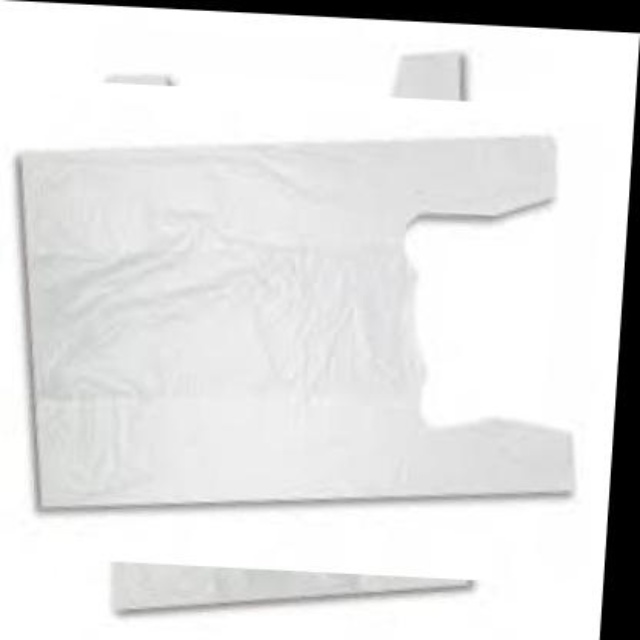trash: (18, 137, 572, 506)
